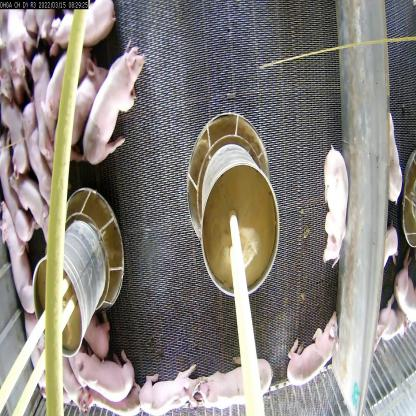Pig: (82, 43, 146, 170), (0, 194, 43, 322), (68, 336, 138, 407), (187, 353, 275, 409), (41, 46, 90, 142), (69, 56, 114, 156), (282, 313, 338, 389), (139, 356, 209, 416), (316, 141, 348, 265), (16, 94, 48, 214), (5, 163, 53, 241), (49, 4, 118, 55), (33, 68, 46, 164)
